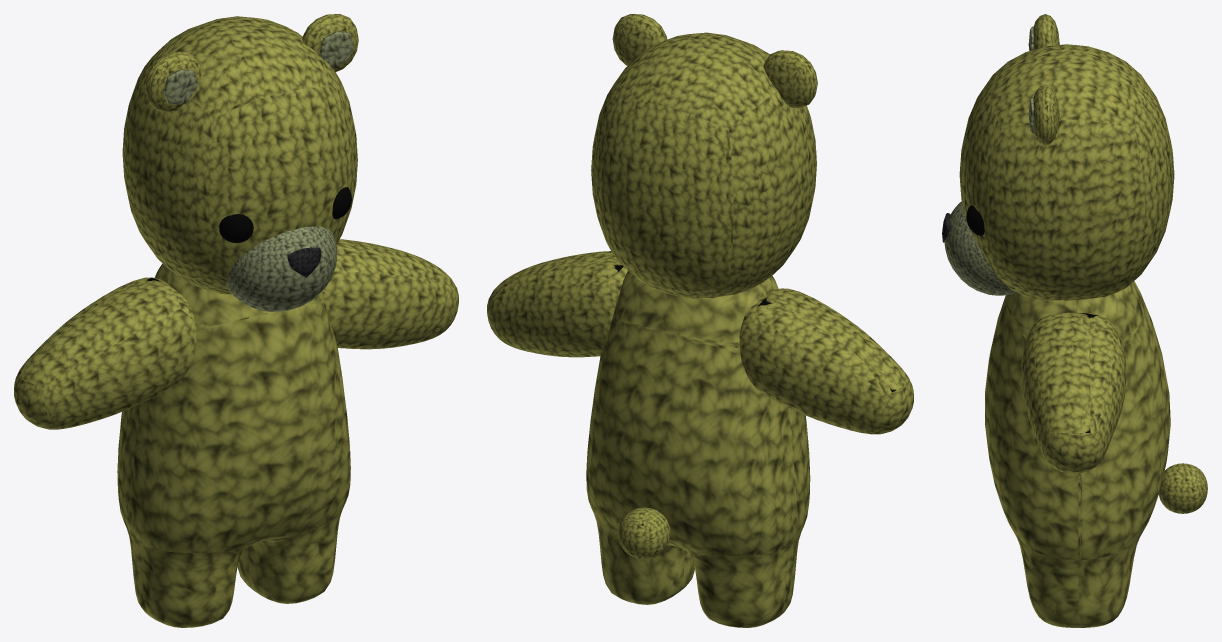
Rendered from OSITOAmarillo.glb.
The picture shows the model from 3 angles, left to right: view 1: azimuth 30°, elevation 25°; view 2: azimuth 150°, elevation 25°; view 3: azimuth 270°, elevation 25°; orthographic projection. The views are drawn at different scales.
Parts seen in each view (by area): view 1: body, head, arms, snoot, ears, in ears, eyes, nose; view 2: body, head, arms, ears, tail; view 3: head, body, arms, snoot, ears, tail, eyes.
Part boxes in pixels (x1,y1,x2,y2): body: (117, 263, 350, 627); head: (122, 16, 357, 294); arms: (14, 239, 458, 429); snoot: (226, 226, 337, 311); ears: (145, 14, 358, 112); in ears: (164, 31, 353, 104); eyes: (219, 187, 351, 242); nose: (287, 247, 321, 277); body: (586, 271, 810, 627); head: (591, 32, 816, 298); arms: (487, 251, 913, 434); ears: (612, 14, 817, 108); tail: (618, 507, 670, 559); head: (959, 44, 1174, 300); body: (985, 281, 1170, 627); arms: (1021, 312, 1126, 473); snoot: (944, 201, 1015, 295); ears: (1033, 14, 1059, 145); tail: (1158, 463, 1207, 513); eyes: (966, 205, 984, 235).
Size of the model in its own units: 1.37 by 1.75 by 0.7789.
7 materials, 6 textured.
